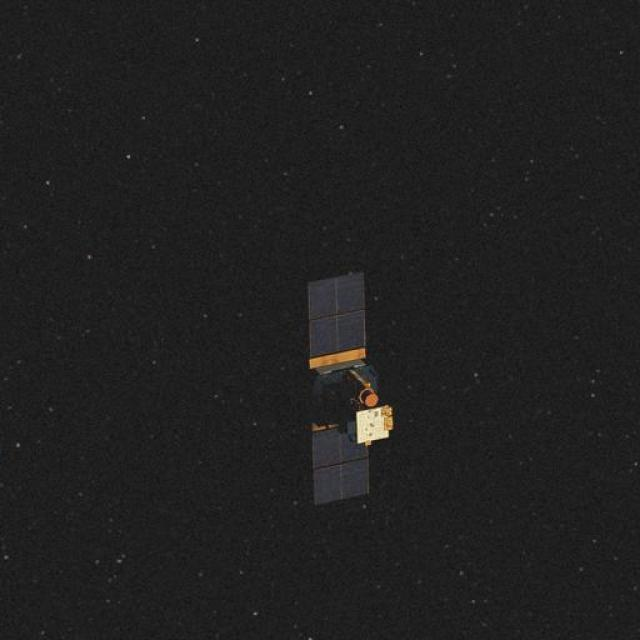soho: (288, 261, 407, 545)
